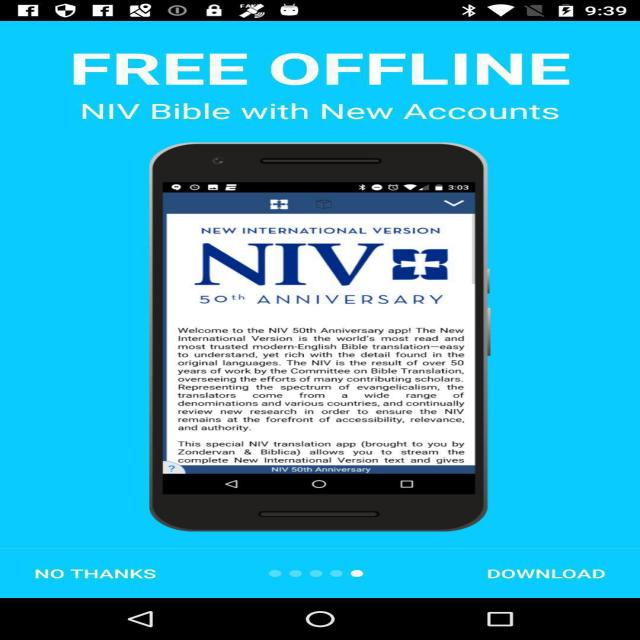button: (19, 545, 640, 597)
text: (195, 218, 487, 472), (53, 39, 640, 163)
